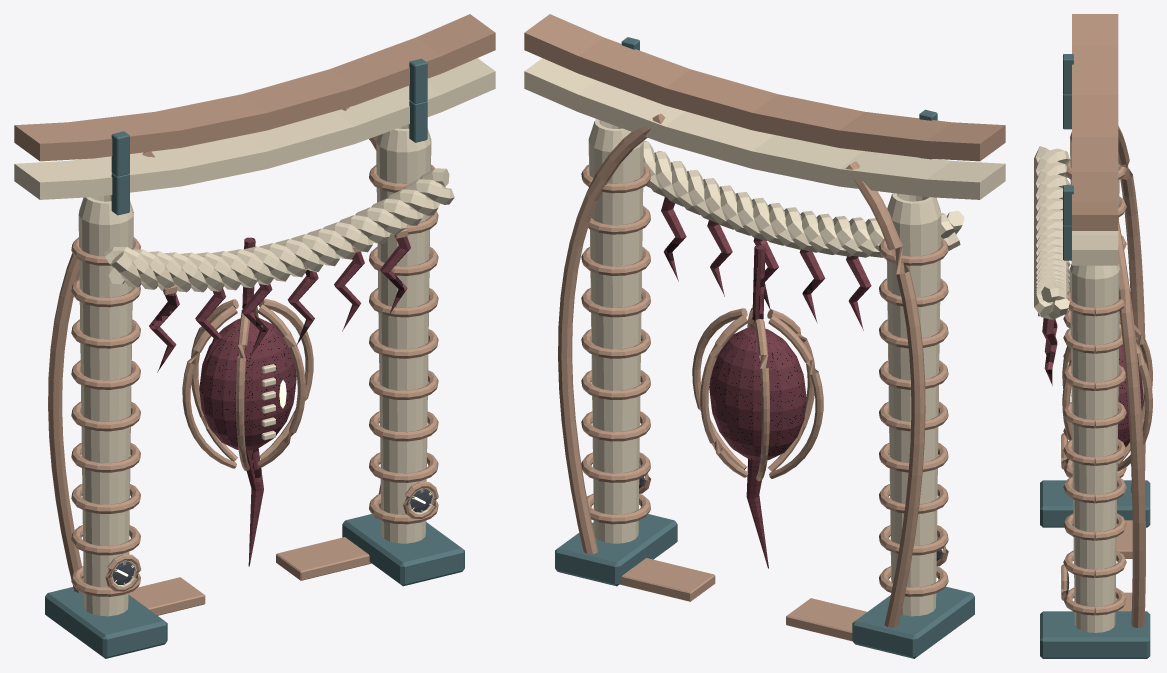
The model's file is intake_bound_gate.glb.
3 views of the same model, side by side, from view 1: azimuth 30°, elevation 25°; view 2: azimuth 150°, elevation 25°; view 3: azimuth 270°, elevation 25° (orthographic). The views are drawn at different scales.
Visible parts, largest first — view 1: intake_bound_gate_warm, intake_bound_gate_worn, intake_bound_gate_bruised, intake_bound_gate_petrol, intake_bound_gate_deep; view 2: intake_bound_gate_worn, intake_bound_gate_warm, intake_bound_gate_bruised, intake_bound_gate_petrol; view 3: intake_bound_gate_worn, intake_bound_gate_warm, intake_bound_gate_petrol, intake_bound_gate_bruised.
Part boxes in pixels (x1,y1,x2,y2): intake_bound_gate_warm: (14,58,495,616); intake_bound_gate_worn: (14,14,495,615); intake_bound_gate_bruised: (149,235,410,566); intake_bound_gate_petrol: (45,58,464,658); intake_bound_gate_deep: (110,489,431,584); intake_bound_gate_worn: (524,14,1005,641); intake_bound_gate_warm: (524,58,1005,616); intake_bound_gate_bruised: (661,197,871,568); intake_bound_gate_petrol: (555,37,974,658); intake_bound_gate_worn: (1038,14,1152,627); intake_bound_gate_warm: (1034,132,1120,632); intake_bound_gate_petrol: (1040,54,1150,658); intake_bound_gate_bruised: (1042,318,1143,446).
Size of the model in its own units: 6.8 by 7.35 by 1.7.
6 materials, 1 textured.
